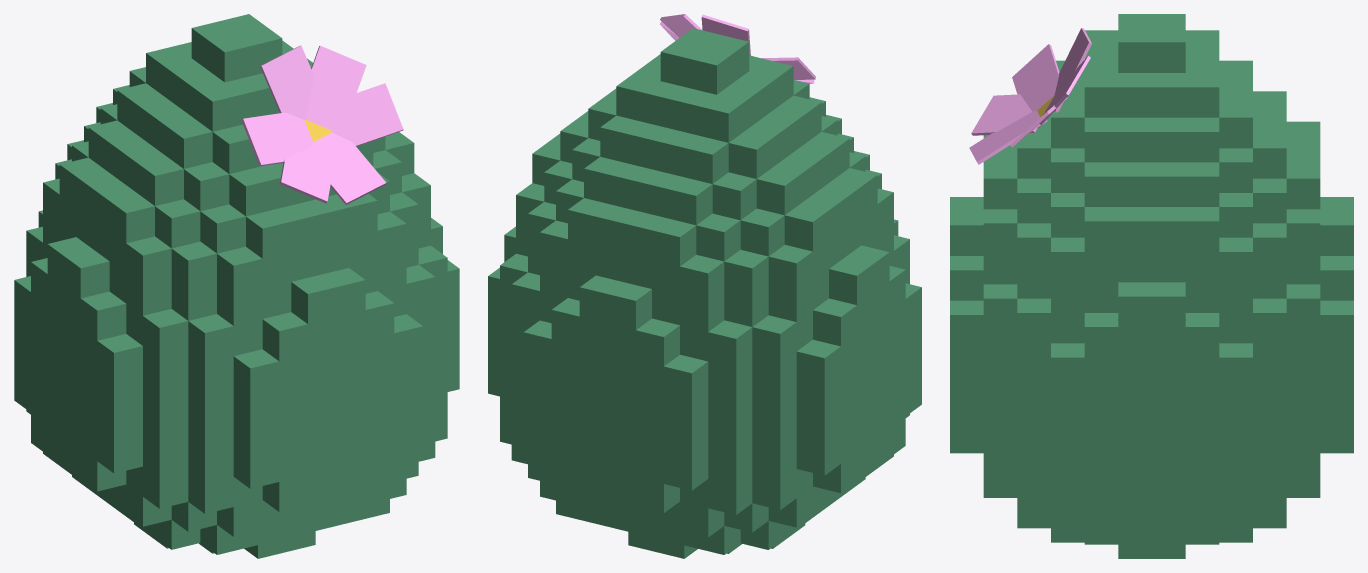
Rendered from Flower_Egg.glb.
3 renders of one model, left to right at view 1: azimuth 30°, elevation 25°; view 2: azimuth 150°, elevation 25°; view 3: azimuth 270°, elevation 25°, orthographic. The views are drawn at different scales.
Parts seen in each view (by area): view 1: Cube_copy_copy_copy_copy_copy_copy_copy_copy_copy_copy_copy_ (×66), Cube_copy_1, Cube_copy_copy_copy_9, Cube_copy_copy_copy_copy_copy_5, Cube_copy_copy_copy, Cube_copy_copy_copy_6, Cube_copy_copy_copy_copy_copy_copy_copy_copy_copy, Cube_copy_copy_copy_2, Cube_copy_4, Cube_copy_copy_copy_copy_copy_8, Cube_copy_copy_copy_copy_7, Cube_copy_copy_copy_copy_copy_copy_7 (+59 smaller); view 2: Cube_copy_copy_copy_copy_copy_copy_copy_copy_copy_copy_copy_ (×70), Cube_copy_copy_copy_copy_copy_copy_copy_25, Cube_copy_copy_1, Cube_copy_copy_4, Cube_copy_copy_copy_copy_copy_15, Cube_copy_copy_copy_copy_copy_17, Cube_copy_copy_copy_20, Cube, Cube_copy_copy_copy_copy_copy_copy_copy_21, Cube_copy_copy_copy_copy_1, Cube_copy_copy_copy_copy_copy_copy_copy_copy_copy_copy_7, Cube_copy_copy_copy_3 (+47 smaller); view 3: Cube_copy_copy_copy_copy_copy_copy_copy_copy_copy_copy_copy_ (×94), Cube_copy_copy_copy_copy_copy_copy_12, Cube_copy_copy_copy_copy_copy_copy_copy_copy_copy_copy_2, Cube_copy_5, Cube_copy_copy_12, Cube_copy_copy_copy_copy_6, Cube_copy_copy_copy_copy_copy_copy_19, Cube_copy_copy_copy_copy_copy_copy_copy_copy_copy_copy_3, Cube_copy_copy_copy_copy_18, Cube_copy_copy_8, Cube_copy_copy_copy_copy_4, Cube_copy_copy_copy_13 (+60 smaller).
Boxes of the visible parts, x1,y1,x2,y2 form: Cube_copy_copy_copy_copy_copy_copy_copy_copy_copy_copy_copy_ (×66): (26, 21, 447, 554); Cube_copy_1: (80, 291, 126, 340); Cube_copy_copy_copy_9: (233, 349, 279, 398); Cube_copy_copy_copy_copy_copy_5: (143, 309, 188, 357); Cube_copy_copy_copy: (64, 249, 109, 298); Cube_copy_copy_copy_6: (291, 275, 336, 323); Cube_copy_copy_copy_copy_copy_copy_copy_copy_copy: (126, 236, 171, 285); Cube_copy_copy_copy_2: (97, 334, 142, 382); Cube_copy_4: (262, 312, 307, 361); Cube_copy_copy_copy_copy_copy_8: (233, 417, 279, 458); Cube_copy_copy_copy_copy_7: (233, 386, 279, 428); Cube_copy_copy_copy_copy_copy_copy_7: (233, 447, 279, 488); Cube_copy_copy_copy_copy_copy_copy_copy_copy_copy_copy_copy_ (×70): (511, 14, 877, 554); Cube_copy_copy_copy_copy_copy_copy_copy_25: (708, 320, 752, 368); Cube_copy_copy_1: (829, 257, 873, 304); Cube_copy_copy_4: (796, 339, 840, 387); Cube_copy_copy_copy_copy_copy_15: (607, 282, 651, 330); Cube_copy_copy_copy_copy_copy_17: (664, 354, 708, 402); Cube_copy_copy_copy_20: (636, 318, 679, 366); Cube: (813, 298, 856, 346); Cube_copy_copy_copy_copy_copy_copy_copy_21: (664, 420, 708, 461); Cube_copy_copy_copy_copy_1: (796, 405, 840, 446); Cube_copy_copy_copy_copy_copy_copy_copy_copy_copy_copy_7: (708, 474, 752, 514); Cube_copy_copy_copy_3: (796, 376, 840, 416); Cube_copy_copy_copy_copy_copy_copy_copy_copy_copy_copy_copy_ (×94): (969, 14, 1320, 558); Cube_copy_copy_copy_copy_copy_copy_12: (983, 284, 1017, 329); Cube_copy_copy_copy_copy_copy_copy_copy_copy_copy_copy_2: (983, 209, 1017, 253); Cube_copy_5: (1084, 313, 1118, 357); Cube_copy_copy_12: (1185, 313, 1219, 357); Cube_copy_copy_copy_copy_6: (950, 300, 983, 345); Cube_copy_copy_copy_copy_copy_copy_19: (1253, 298, 1286, 343); Cube_copy_copy_copy_copy_copy_copy_copy_copy_copy_copy_3: (1219, 237, 1252, 282); Cube_copy_copy_copy_copy_18: (1320, 300, 1353, 345); Cube_copy_copy_8: (950, 256, 983, 300); Cube_copy_copy_copy_copy_4: (950, 211, 983, 255); Cube_copy_copy_copy_13: (1118, 282, 1151, 326).
Bounding box in the file's own units: 1.2 × 1.61 × 1.2.
